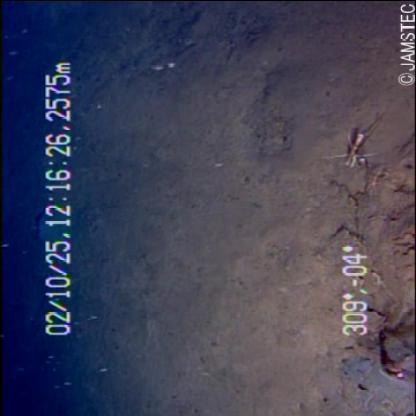Rác: (362, 313, 415, 399)
